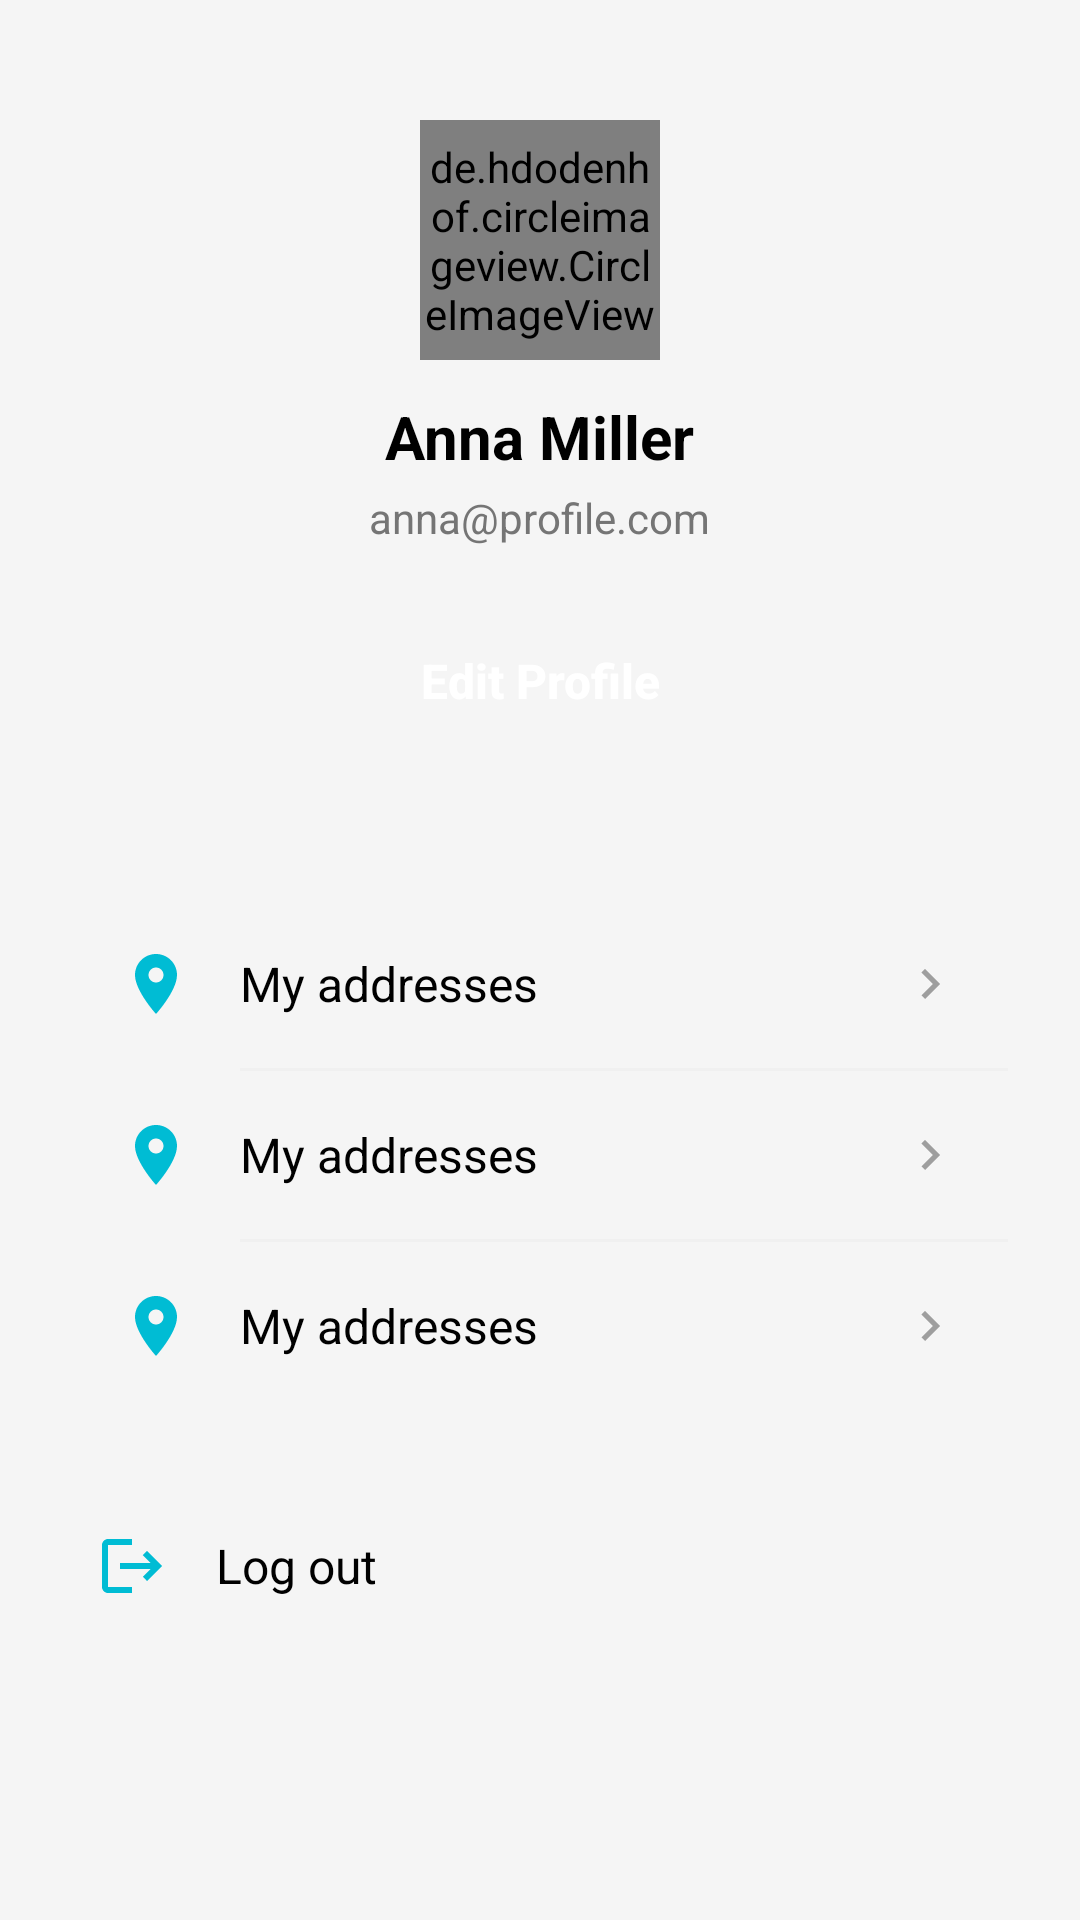

Icon click points for this 1080 × 1920 phone screenshot, format [x,y]:
arrow right: [930,984], [930,1155], [930,1326]
location: [156,984], [156,1155], [156,1326]
